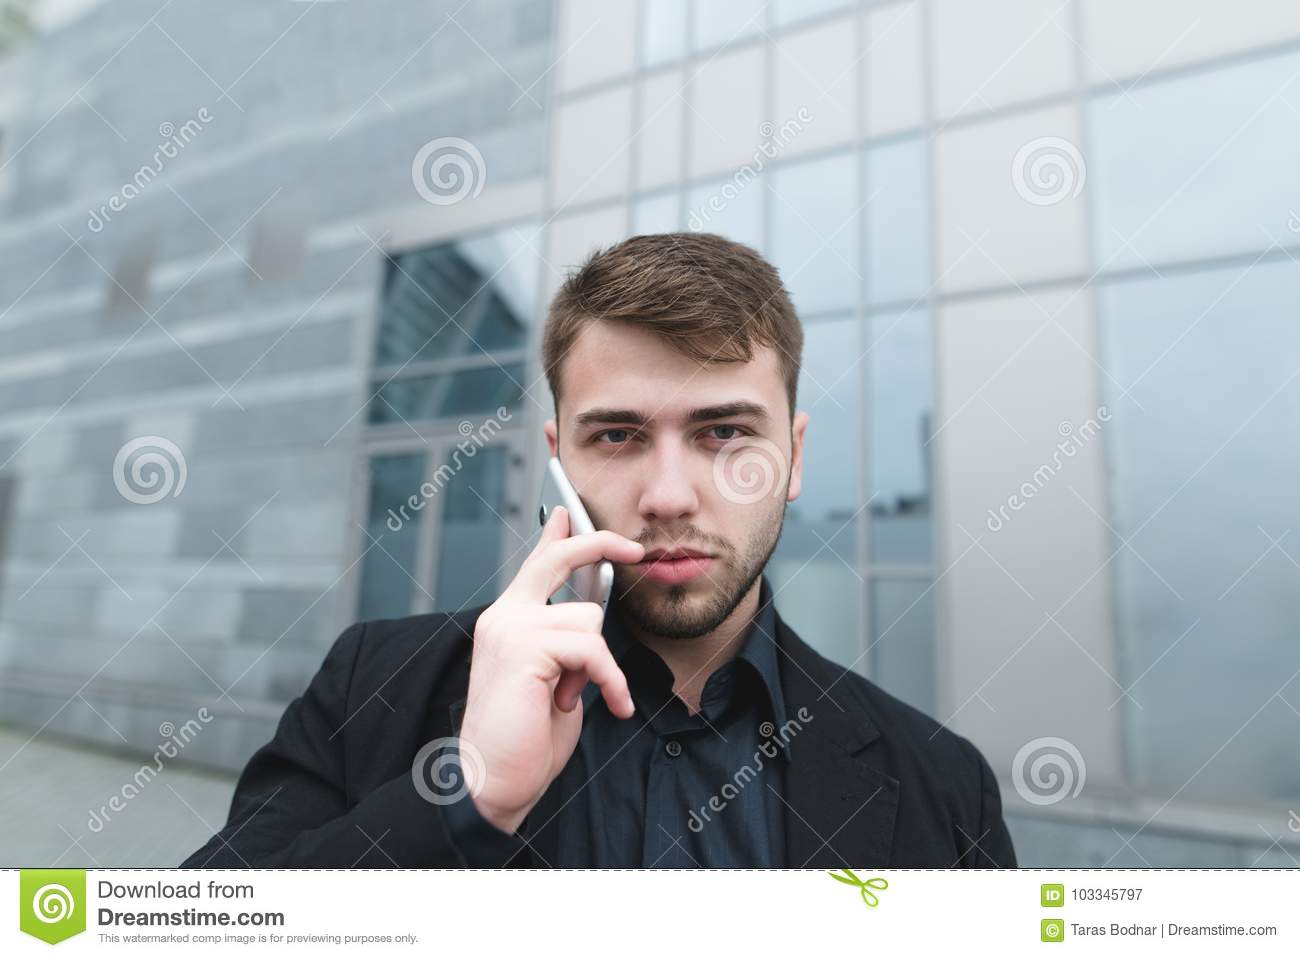phone: (535, 452, 620, 654)
talk: (464, 385, 773, 817)
